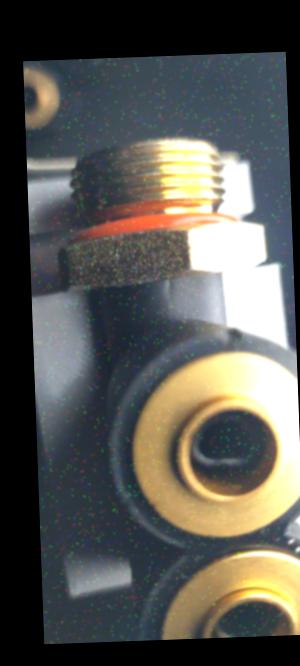bump: (213, 319, 245, 350)
joint line: (162, 293, 179, 326)
off-centered: (191, 410, 269, 483)
white mark: (162, 277, 169, 291)
